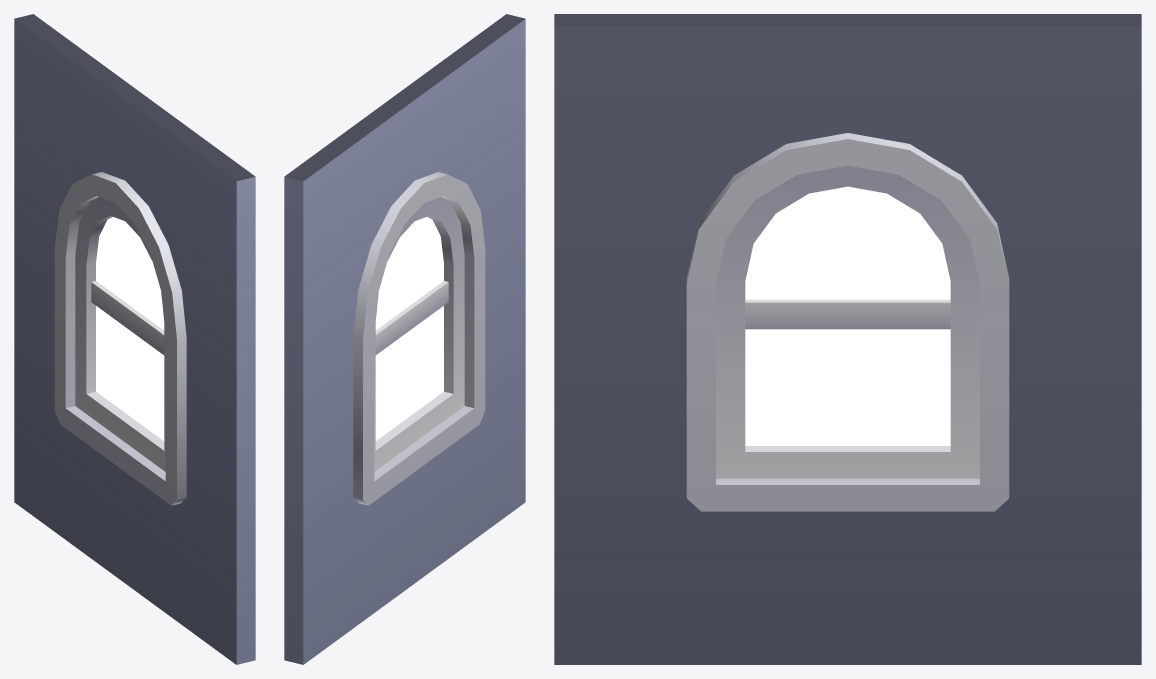
The model's file is part_wall_window_round_detailed.fbx.
3 renders of one model, left to right at view 1: azimuth 30°, elevation 25°; view 2: azimuth 150°, elevation 25°; view 3: azimuth 270°, elevation 25°, orthographic. The views are drawn at different scales.
Visible parts, largest first — view 1: wall-window-round-detailed, (%ignore); view 2: wall-window-round-detailed, (%ignore); view 3: wall-window-round-detailed, (%ignore).
Boxes of the visible parts, <box> form: wall-window-round-detailed: <box>14,14,255,664</box>; (%ignore): <box>96,217,164,440</box>; wall-window-round-detailed: <box>284,14,525,664</box>; (%ignore): <box>375,217,443,440</box>; wall-window-round-detailed: <box>554,14,1141,664</box>; (%ignore): <box>745,186,950,445</box>.
Size of the model in its own units: 20 by 240 by 200.
Materials: 2 (1 with a texture image).
